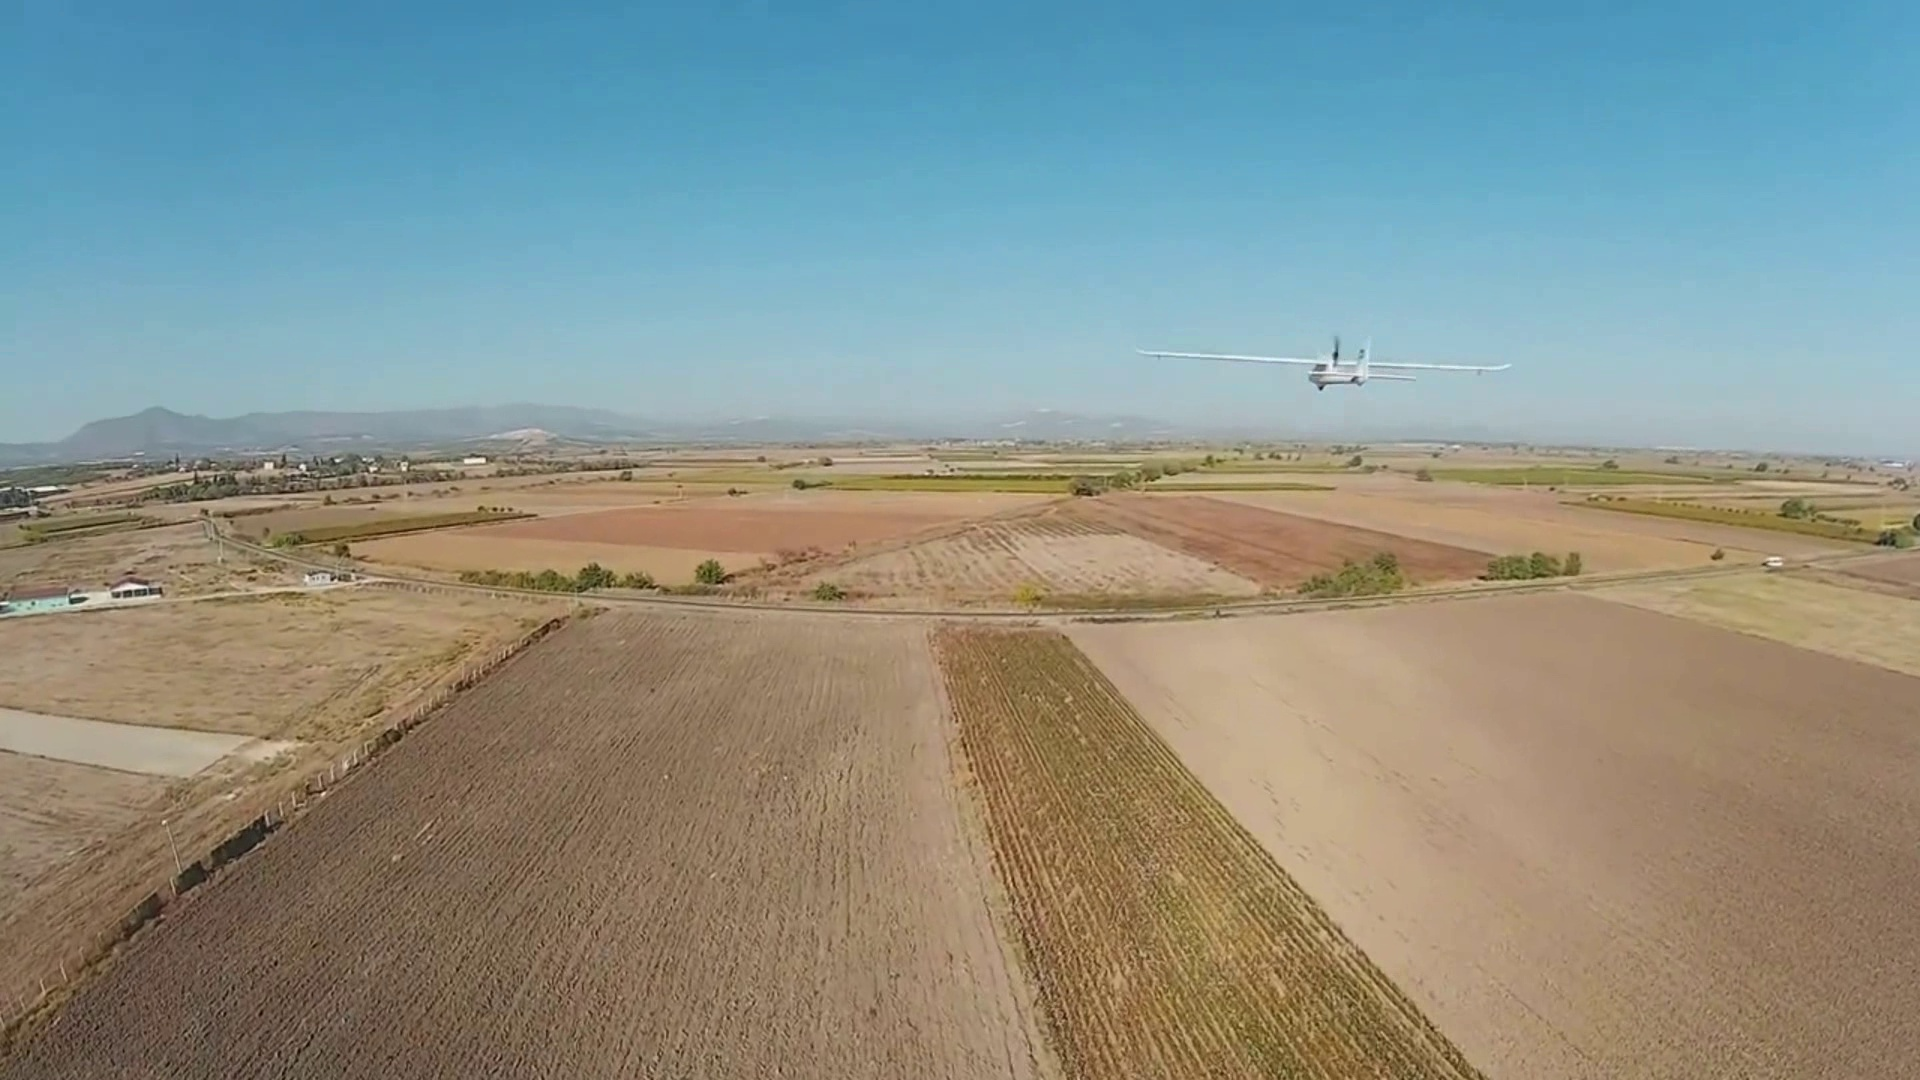airplane: (1139, 332, 1514, 392), (1303, 334, 1519, 390)
